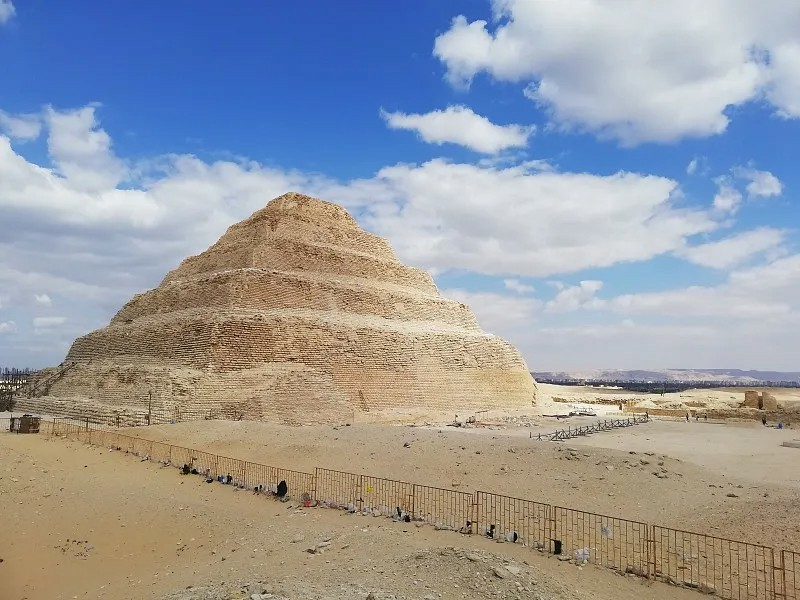Pyramid: (16, 192, 539, 424)
